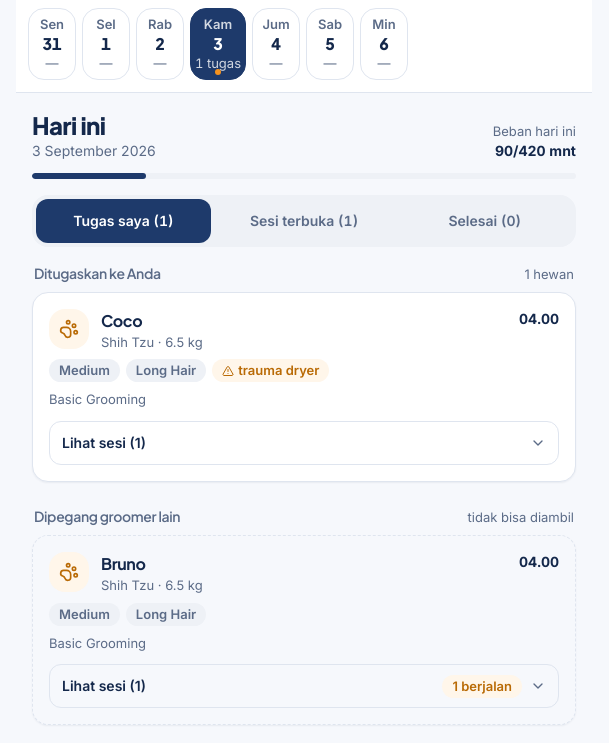
Test: GroomerScreen — the list › the commission summary › says so in a line when the read fails, and leaves the list alone
What coordinates should you click on to do the following:
click the tab "Selesai (0)"
I would click on:
 (485, 221)
Its box is [397,199,572,243].
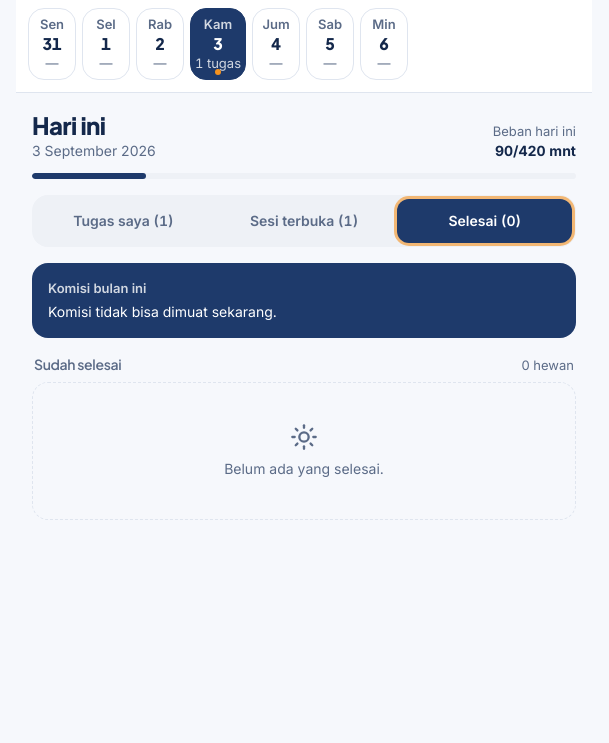
expect the text "Komisi tidak bisa dimuat sekarang." is shown: met, box [48,302,277,320]
expect the list item "Belum ada yang selesai." is shown: met, box [32,382,576,520]
